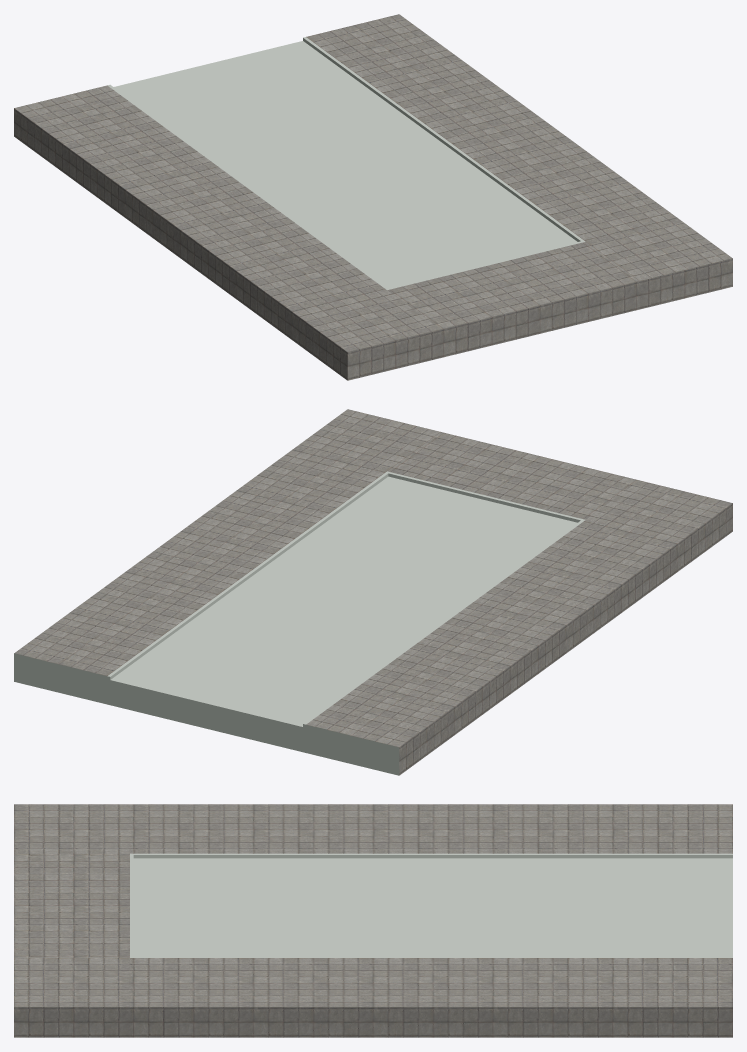
The model's file is SingleEnd_high.fbx.
3 views of the same model, one above another, from view 1: azimuth 30°, elevation 25°; view 2: azimuth 150°, elevation 25°; view 3: azimuth 270°, elevation 25° (orthographic). The views are drawn at different scales.
Parts seen in each view (by area): view 1: materialC150, materialE150, materialA150; view 2: materialC150, materialE150, materialB150, materialA150; view 3: materialC150, materialE150, materialA150, materialD150.
Boxes of the visible parts, bbox=[...] form: materialC150: bbox=[14, 14, 732, 380]; materialE150: bbox=[114, 41, 577, 287]; materialA150: bbox=[107, 37, 583, 288]; materialC150: bbox=[14, 409, 732, 775]; materialE150: bbox=[111, 476, 577, 726]; materialB150: bbox=[14, 653, 399, 775]; materialA150: bbox=[107, 472, 583, 724]; materialC150: bbox=[14, 804, 732, 1037]; materialE150: bbox=[133, 858, 732, 956]; materialA150: bbox=[133, 853, 732, 957]; materialD150: bbox=[130, 853, 133, 957].
Bounding box in the file's own units: 25.6 × 1.8 × 38.4.
